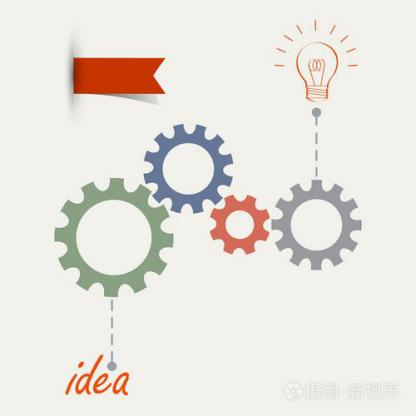FOD: (50, 172, 174, 301), (268, 178, 364, 272)
